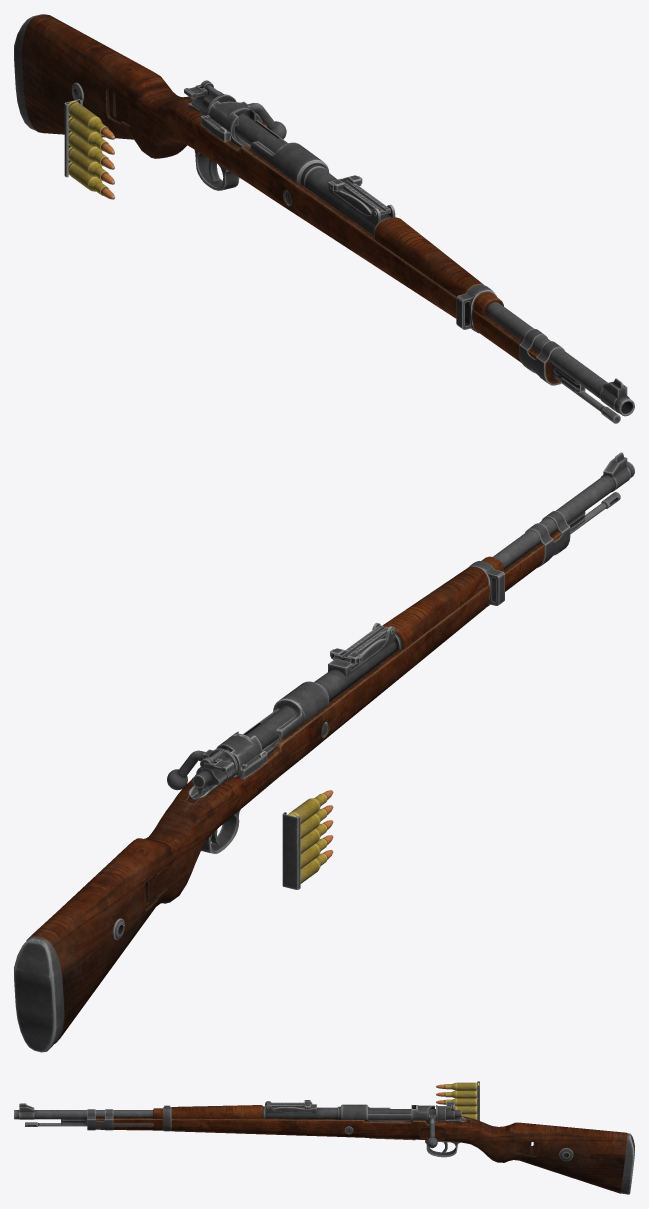
Rendered from kar98k.glb.
The picture shows the model from 3 angles, top to bottom: view 1: azimuth 30°, elevation 25°; view 2: azimuth 150°, elevation 25°; view 3: azimuth 270°, elevation 25°; orthographic projection. The views are drawn at different scales.
Visible parts, largest first — view 1: body, bullets, bolt_carrier; view 2: body, bullets, bolt_carrier; view 3: body, bullets, bolt_carrier, bolt_carrier_1.
Part boxes in pixels (box(x1,y1,x2,y2)): body: box(14, 14, 634, 423); bullets: box(64, 99, 114, 199); bolt_carrier: box(184, 80, 286, 153); body: box(14, 452, 634, 1052); bullets: box(282, 790, 333, 889); bolt_carrier: box(167, 706, 295, 794); body: box(14, 1100, 634, 1194); bullets: box(436, 1081, 479, 1120); bolt_carrier: box(367, 1101, 461, 1148); bolt_carrier_1: box(367, 1113, 411, 1120).
Size of the model in its own units: 0.1888 by 0.1787 by 1.11.
Materials: 2 (2 with a texture image).
